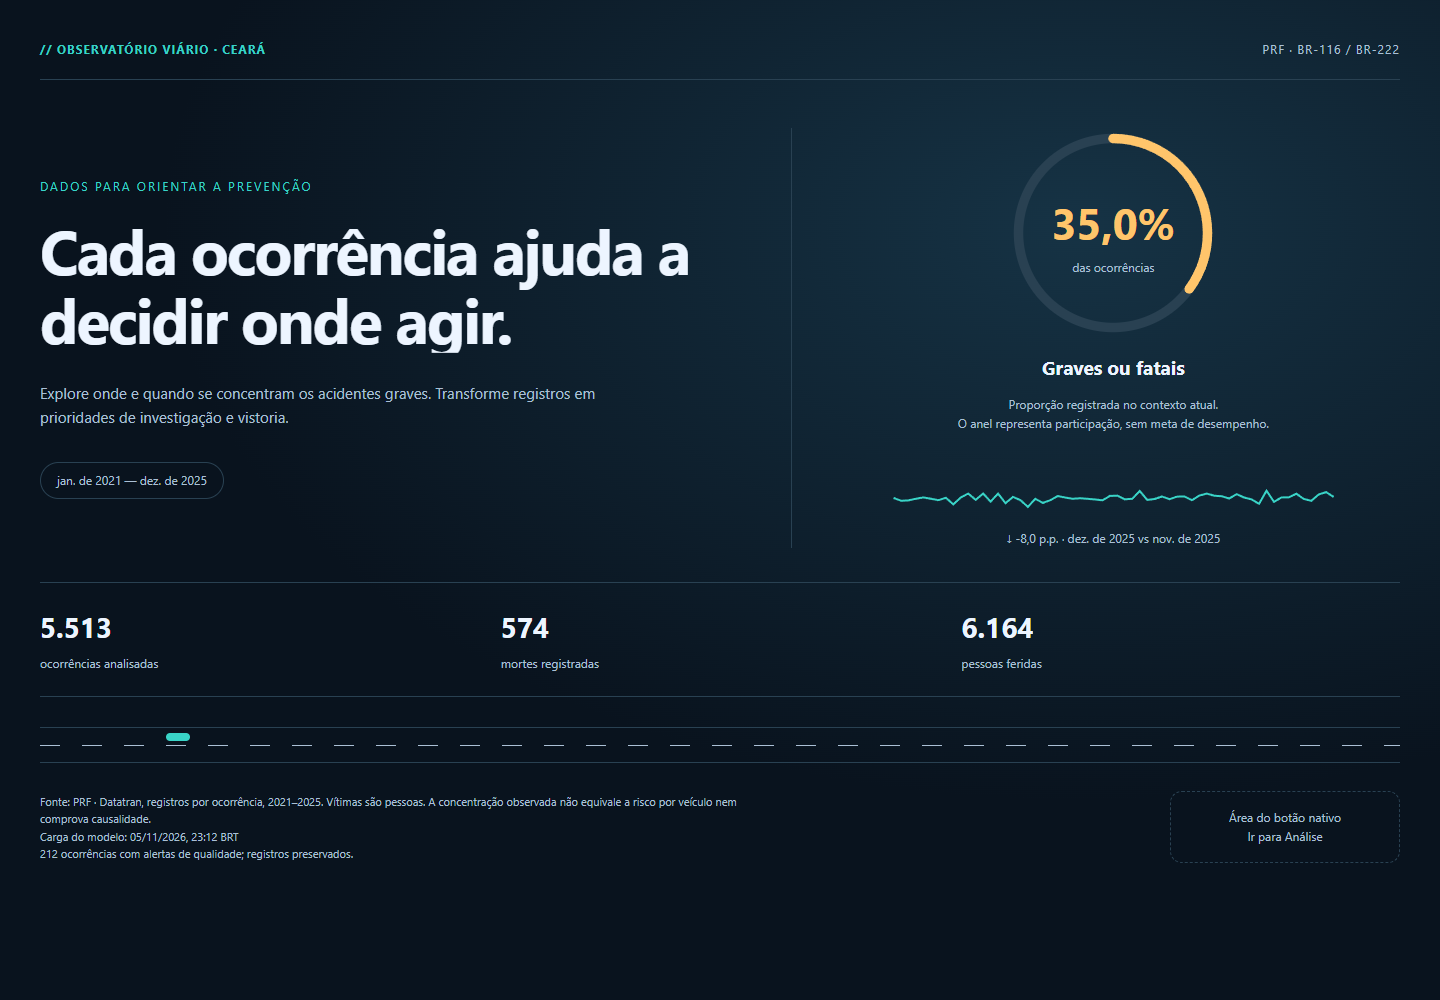

The dashboard page shown, as its layout file describes it:
{"tool":"powerbi","page":{"name":"Página 1","canvas":[1280,720],"ordinal":0},"visuals":[{"type":"htmlContent443BE3AD55E043BF878BED274D3A6855","fields":{"content":["fAcidentes.HTML Capa PRF"]},"box":[0,0,1280,720],"z":0},{"type":"actionButton","box":[1007.7,591.4,230.5,48.6],"z":1000}]}

Visuals, with their boxes on the page's 1280x720 design canvas (x1, y1, x2, y2). These are canvas units, not pixel positions in the 1440x1000 screenshot, which may show the page scaled, cropped or inside an application window:
htmlContent443BE3AD55E043BF878BED274D3A6855 - fAcidentes.HTML Capa PRF: (x1=0, y1=0, x2=1280, y2=720)
actionButton: (x1=1008, y1=591, x2=1238, y2=640)
